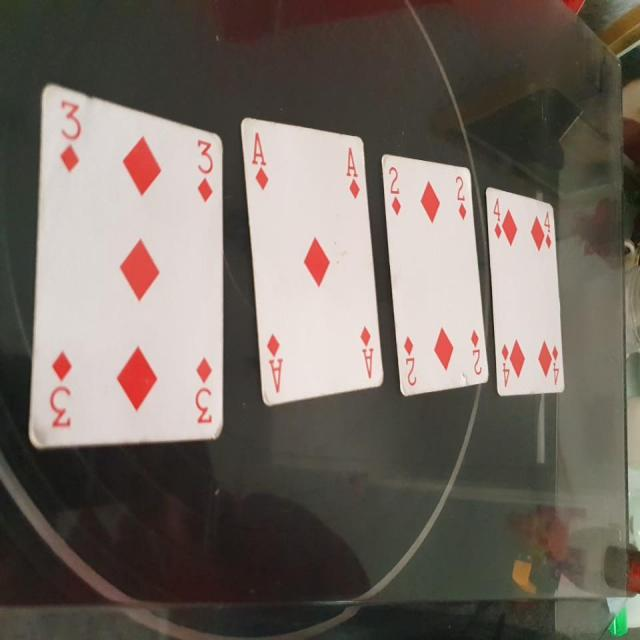2 Diamonds: (383, 151, 491, 398)
3 Diamonds: (23, 78, 226, 452)
4 Diamonds: (483, 183, 568, 401)
A Diamonds: (238, 109, 387, 410)
